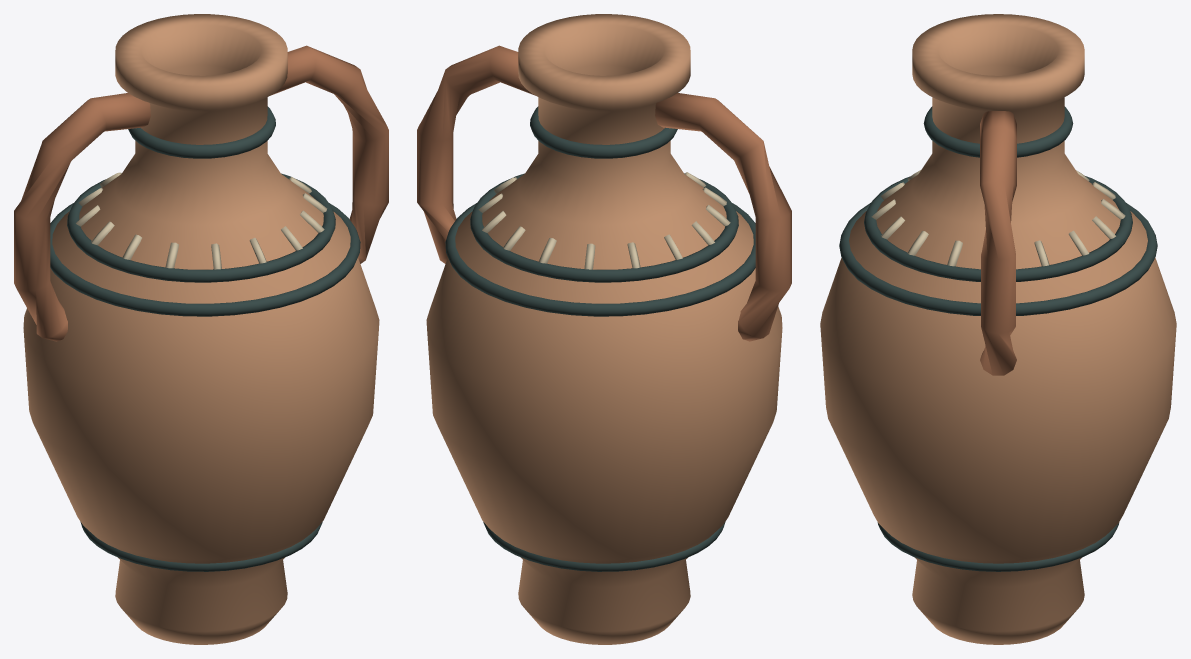
The model's file is amphora.glb.
3 views of the same model, side by side, from view 1: azimuth 30°, elevation 25°; view 2: azimuth 150°, elevation 25°; view 3: azimuth 270°, elevation 25° (orthographic).
Visible parts, largest first — view 1: amphora__Visual_matte; view 2: amphora__Visual_matte; view 3: amphora__Visual_matte.
Boxes of the visible parts, box(x1,y1,x2,y2) form: amphora__Visual_matte: box(14, 14, 388, 644); amphora__Visual_matte: box(417, 14, 791, 644); amphora__Visual_matte: box(820, 14, 1176, 644).
Bounding box in the file's own units: 0.743 × 1.09 × 0.62.
